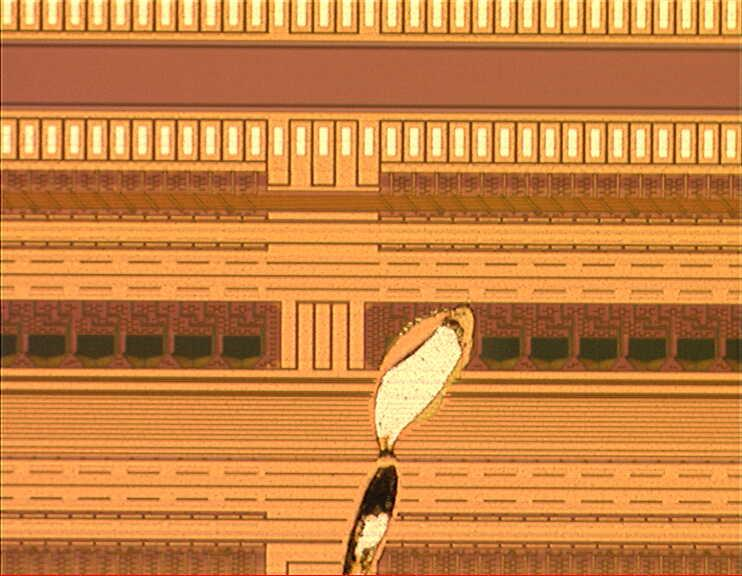BLOCK ETCH: (340, 301, 484, 576)
